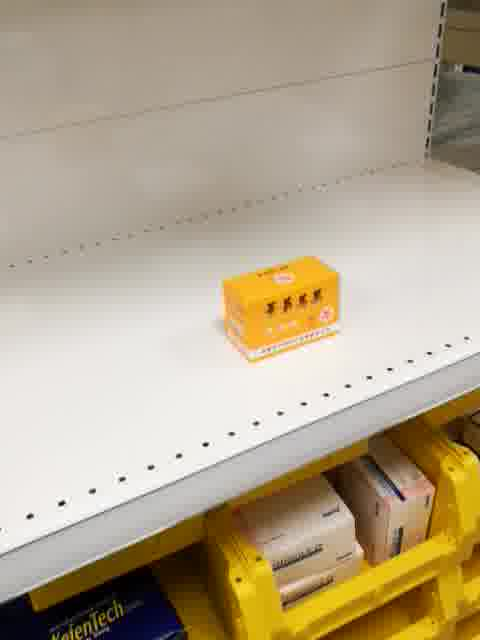jasminetea: (220, 251, 343, 365)
